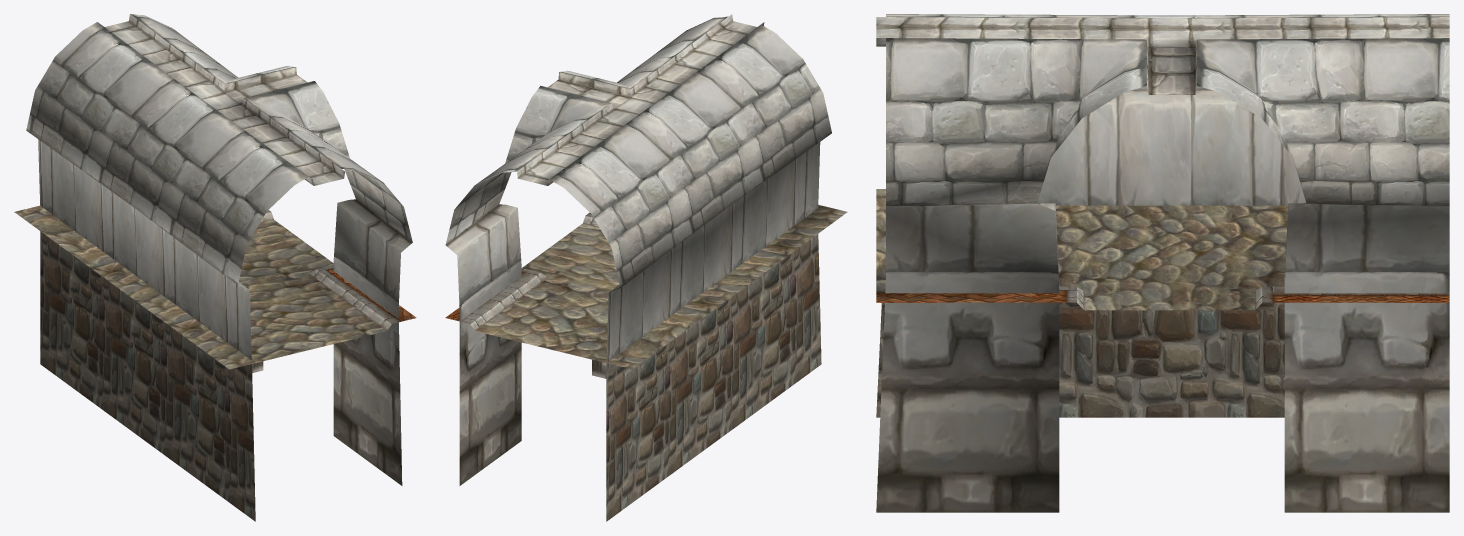
The model's file is stormwind_041.fbx.
3 views of the same model, side by side, from view 1: azimuth 30°, elevation 25°; view 2: azimuth 150°, elevation 25°; view 3: azimuth 270°, elevation 25° (orthographic). The views are drawn at different scales.
Parts seen in each view (by area): view 1: stormwind_041_4, stormwind_041_3, stormwind_041_11, stormwind_041_46, stormwind_041_5, stormwind_041_12; view 2: stormwind_041_4, stormwind_041_3, stormwind_041_11, stormwind_041_46, stormwind_041_5, stormwind_041_12; view 3: stormwind_041_11, stormwind_041_4, stormwind_041_3, stormwind_041_46, stormwind_041_5, stormwind_041_12.
Part boxes in pixels (x1,y1,x2,y2): stormwind_041_4: (26,14,412,285); stormwind_041_3: (40,231,255,521); stormwind_041_11: (38,139,412,485); stormwind_041_46: (14,205,386,369); stormwind_041_5: (105,14,344,185); stormwind_041_12: (260,210,416,330); stormwind_041_4: (445,16,831,287); stormwind_041_3: (606,234,821,521); stormwind_041_11: (445,142,820,485); stormwind_041_46: (475,205,847,369); stormwind_041_5: (517,14,764,185); stormwind_041_12: (445,212,598,330); stormwind_041_11: (876,90,1449,512); stormwind_041_4: (886,14,1449,205); stormwind_041_3: (876,302,1284,417); stormwind_041_46: (876,189,1287,310); stormwind_041_5: (876,17,1449,94); stormwind_041_12: (876,286,1449,309).
Bounding box in the file's own units: 10.8 × 18.07 × 21.46.
